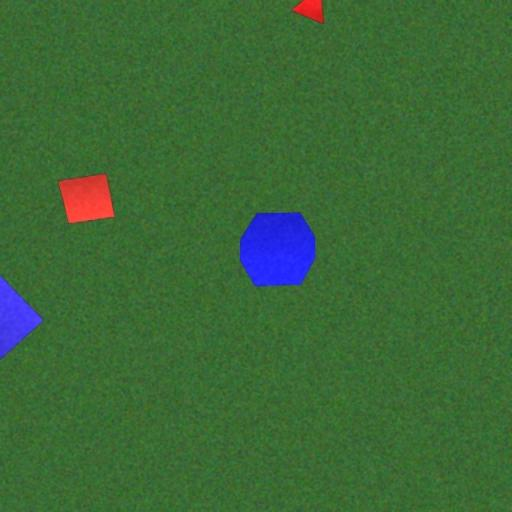BLUE_SQUARE: (0, 256, 45, 386)
RED_SQUARE: (57, 173, 115, 225)
